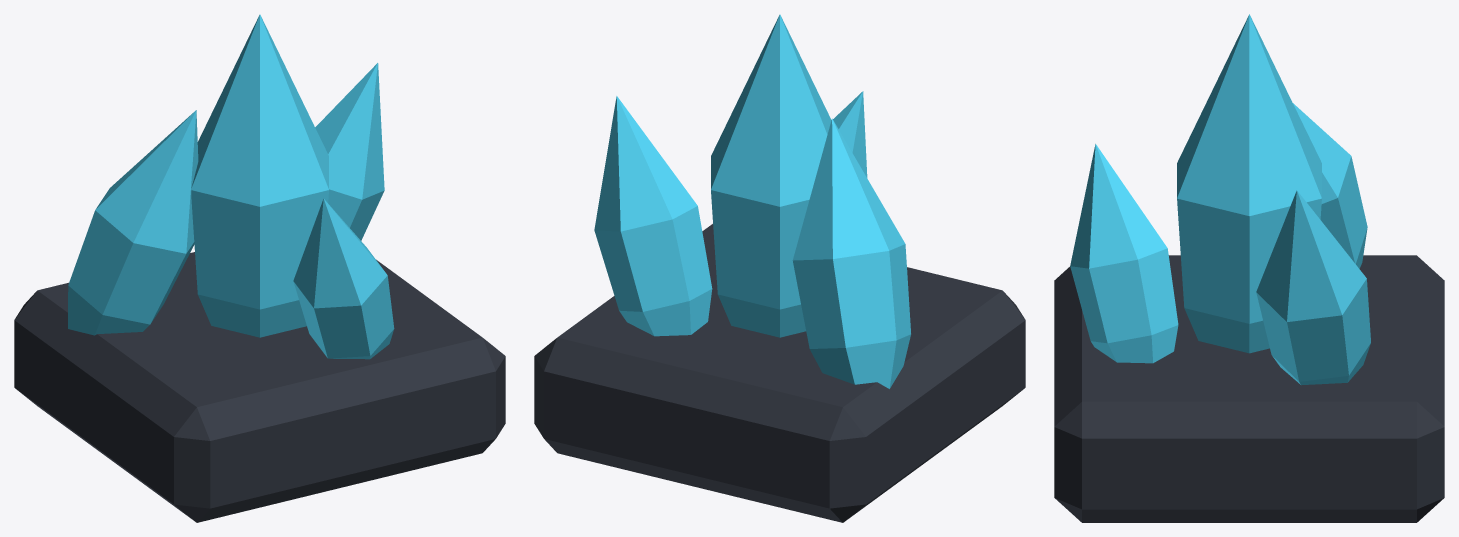
Rendered from crystal_vein_node.obj.
3 renders of one model, left to right at view 1: azimuth 30°, elevation 25°; view 2: azimuth 150°, elevation 25°; view 3: azimuth 270°, elevation 25°, orthographic. The views are drawn at different scales.
Parts seen in each view (by area): view 1: RockBase, Crys_0, Crys_2, Crys_3, Crys_1; view 2: RockBase, Crys_0, Crys_2, Crys_1, Crys_3; view 3: RockBase, Crys_0, Crys_3, Crys_1, Crys_2.
Boxes of the visible parts, box(x1,y1,x2,y2) form: RockBase: box(14, 252, 505, 522); Crys_0: box(191, 14, 328, 337); Crys_2: box(68, 110, 198, 335); Crys_3: box(293, 198, 394, 359); Crys_1: box(315, 63, 384, 240); RockBase: box(534, 224, 1025, 522); Crys_0: box(711, 14, 831, 337); Crys_2: box(792, 118, 910, 388); Crys_1: box(594, 96, 712, 336); Crys_3: box(833, 91, 867, 177); RockBase: box(1054, 255, 1444, 522); Crys_0: box(1177, 14, 1321, 353); Crys_3: box(1070, 144, 1178, 363); Crys_1: box(1256, 190, 1370, 385); Crys_2: box(1293, 103, 1367, 268).
Size of the model in its own units: 0.72 by 0.88 by 0.7.
